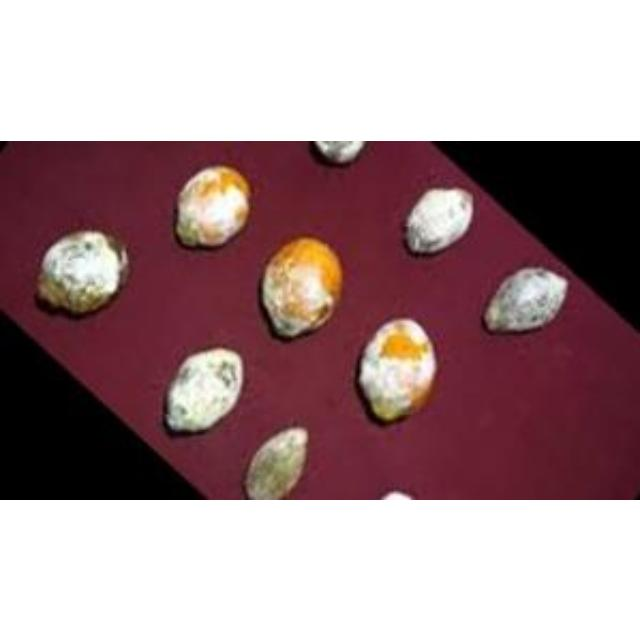damaged: (356, 316, 439, 422), (34, 227, 130, 315), (260, 236, 342, 336), (163, 344, 245, 434), (174, 164, 252, 248), (482, 264, 568, 332), (402, 184, 473, 254), (243, 426, 309, 499)
